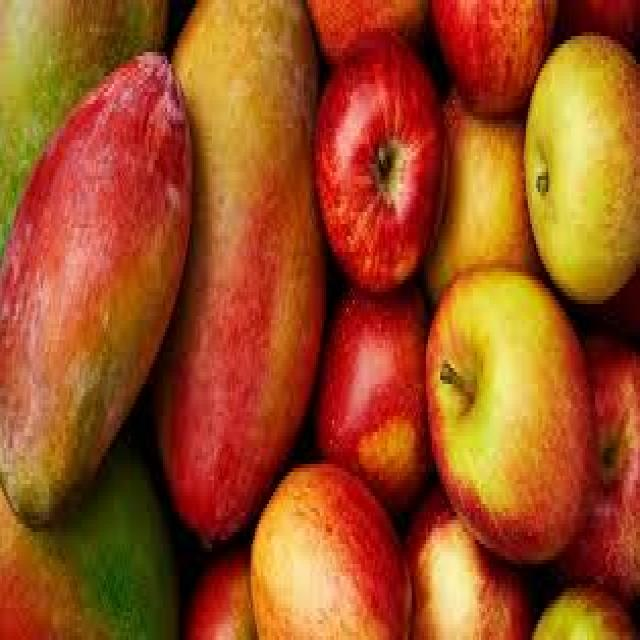Apple: (426, 268, 594, 564), (319, 29, 450, 292), (524, 32, 640, 300), (564, 329, 640, 612)
Mango: (151, 0, 330, 543), (0, 52, 190, 517), (252, 462, 414, 640)
